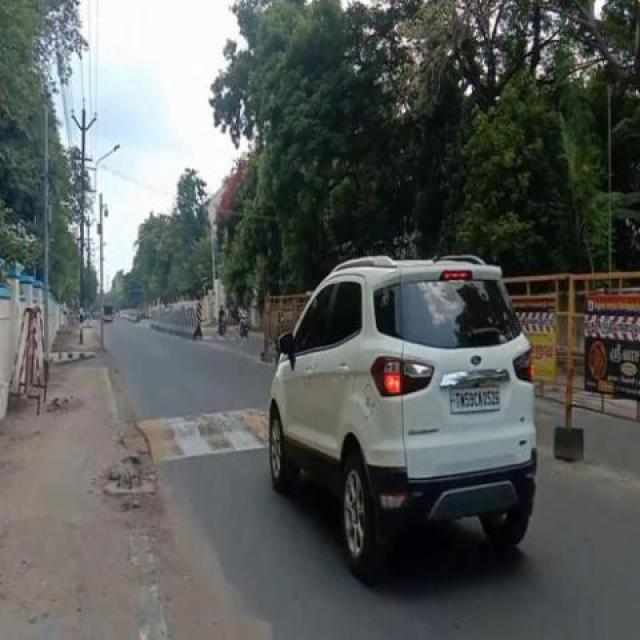Speed Bump: (137, 408, 270, 468)
